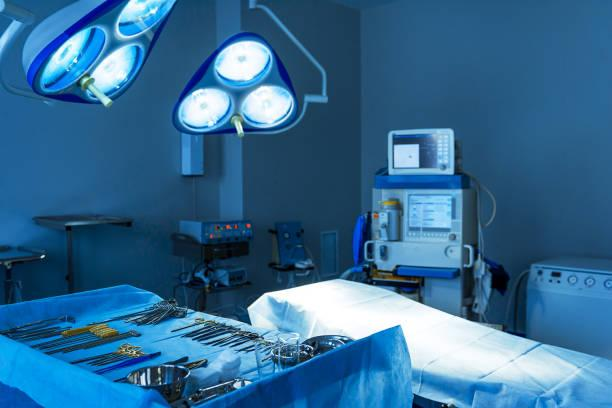Monitor: (363, 177, 479, 280), (383, 119, 462, 180), (0, 235, 51, 321)
bed: (249, 255, 610, 407)
tools_table: (1, 278, 422, 407), (39, 197, 139, 315)
